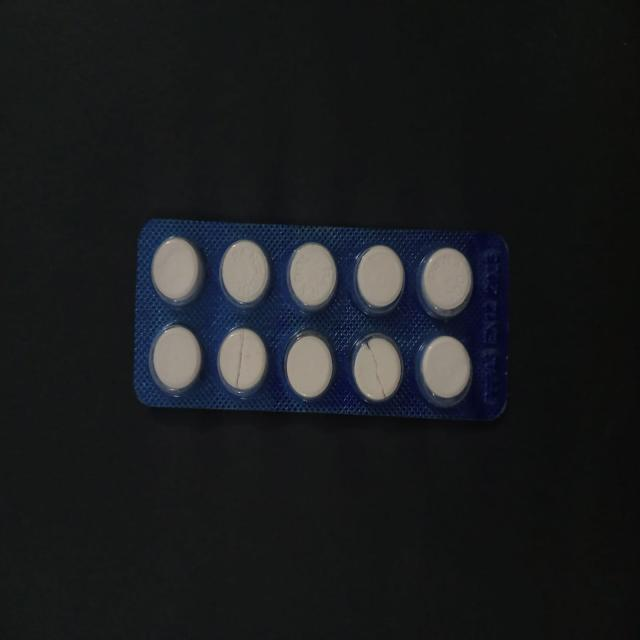defect: (346, 328, 406, 407), (215, 320, 271, 404)
